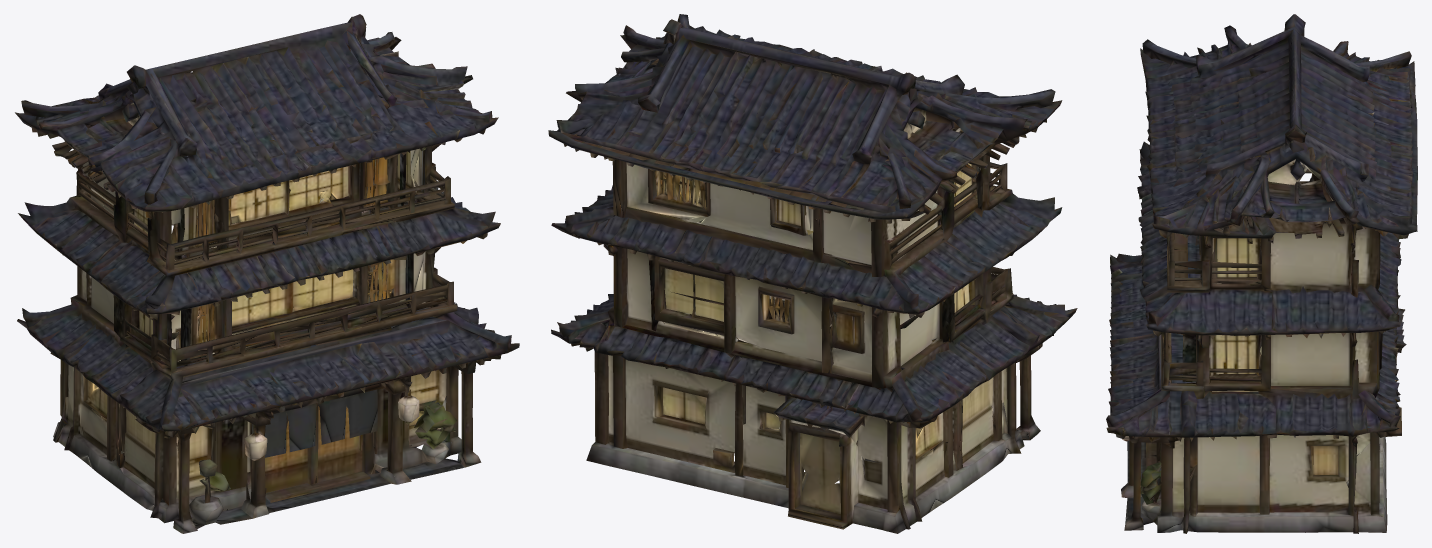
3 renders of one model, left to right at view 1: azimuth 30°, elevation 25°; view 2: azimuth 150°, elevation 25°; view 3: azimuth 270°, elevation 25°, orthographic. The views are drawn at different scales.
Visible parts, largest first — view 1: compact__hotel_3__native_mobile; view 2: compact__hotel_3__native_mobile; view 3: compact__hotel_3__native_mobile.
Part boxes in pixels (x1,y1,x2,y2): compact__hotel_3__native_mobile: [15, 14, 519, 533]; compact__hotel_3__native_mobile: [548, 14, 1077, 533]; compact__hotel_3__native_mobile: [1106, 14, 1417, 533].
Bounding box in the file's own units: 1 × 0.9855 × 0.7081.
Materials: 1 (1 with a texture image).
